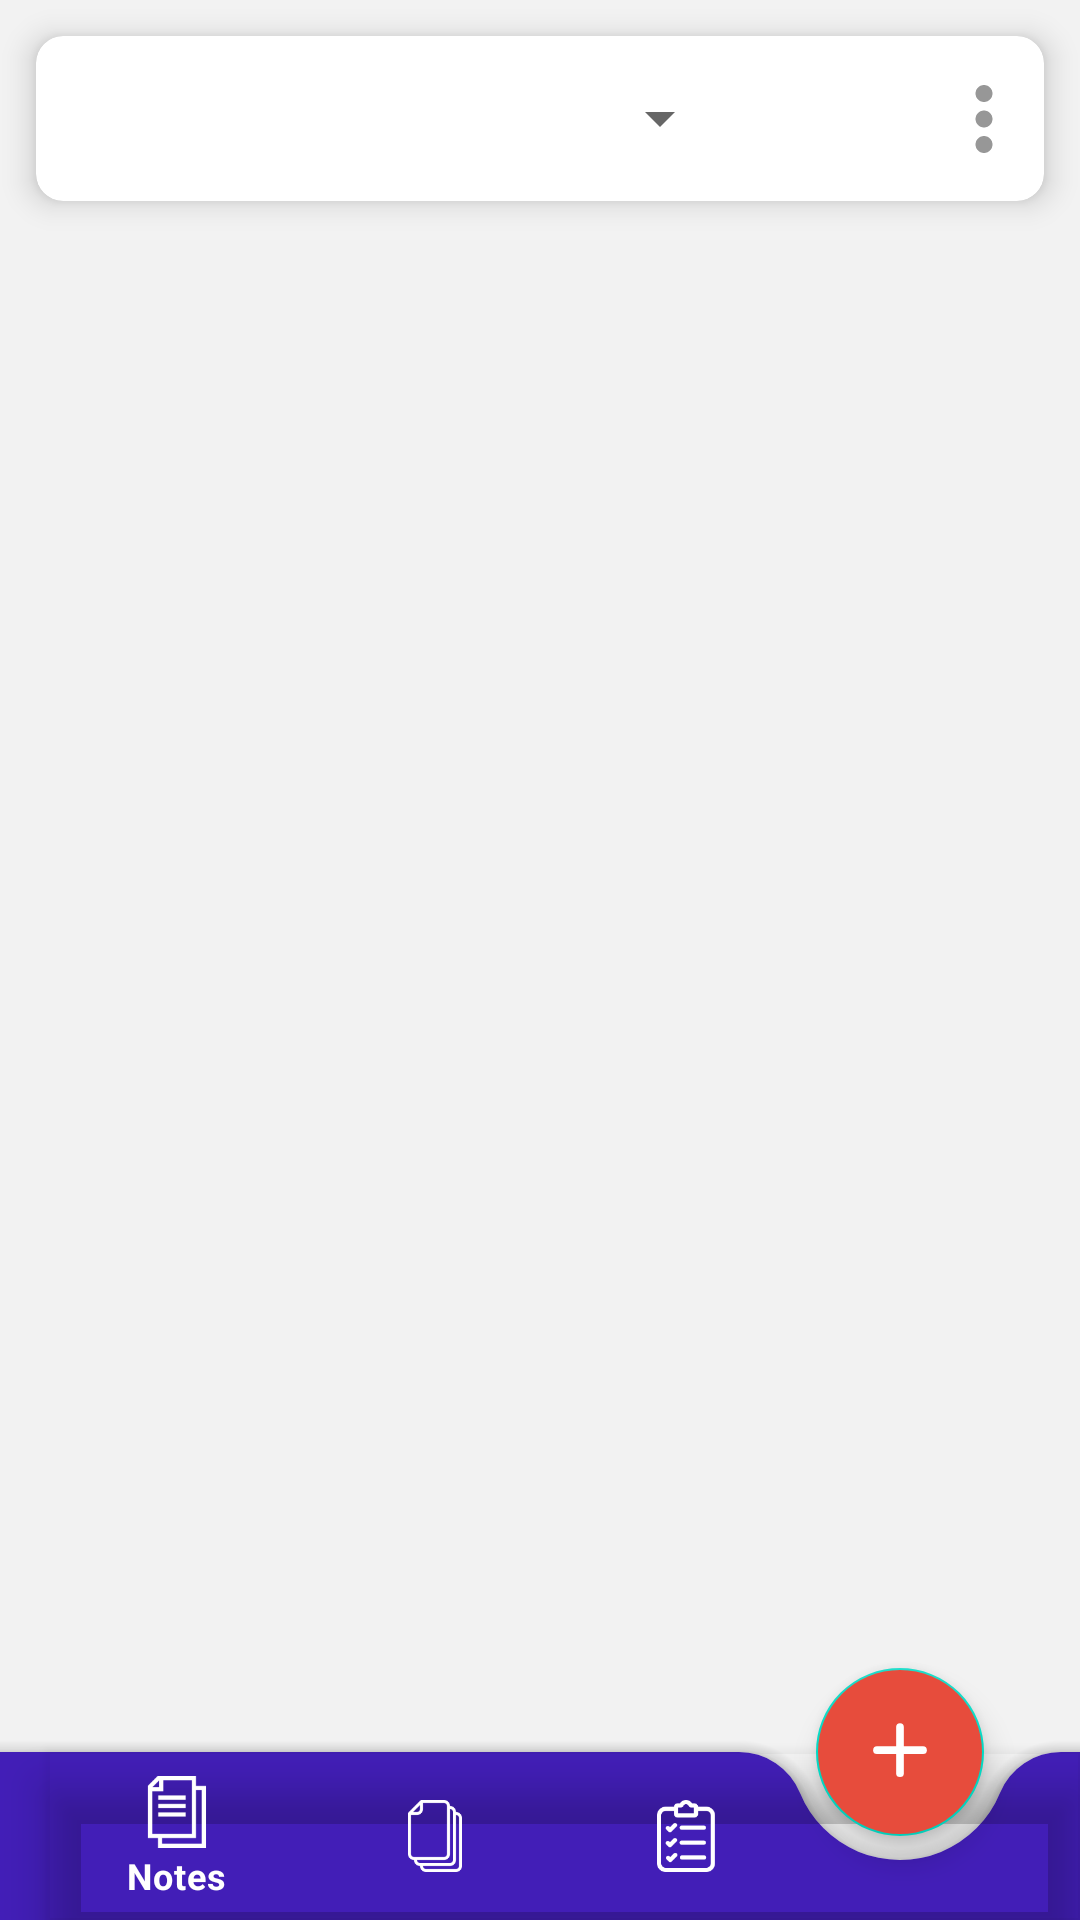

Icon bounding boxes for this 1080x1920 phone screenshot, format [x1=x1, y1=y1, x2=x2, y2=y2]:
more: [x1=975, y1=85, x2=993, y2=153]
